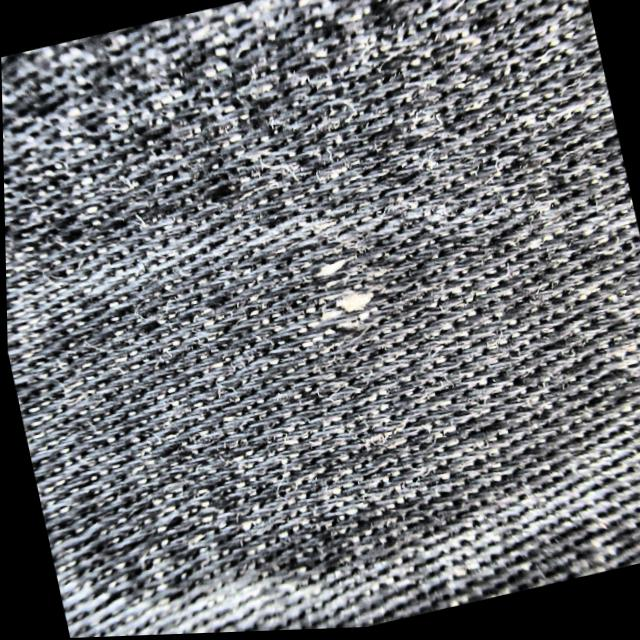Hole: (311, 250, 375, 334)
